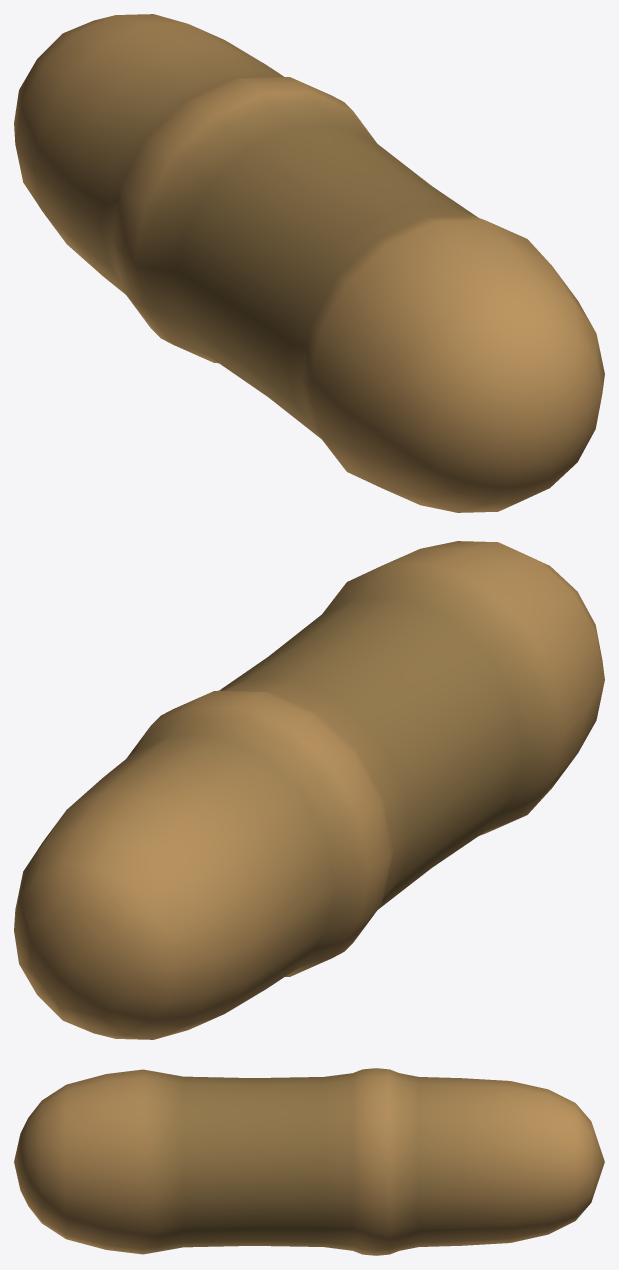
The model's file is microscopic-bacteria-dividing-bacterium_v2.glb.
3 views of the same model, one above another, from view 1: azimuth 30°, elevation 25°; view 2: azimuth 150°, elevation 25°; view 3: azimuth 270°, elevation 25° (orthographic). The views are drawn at different scales.
Parts seen in each view (by area): view 1: Dividing Bacterium_v2; view 2: Dividing Bacterium_v2; view 3: Dividing Bacterium_v2.
Boxes of the visible parts, left/top/right/bottom form: Dividing Bacterium_v2: left=14, top=14, right=604, bottom=512; Dividing Bacterium_v2: left=14, top=541, right=604, bottom=1039; Dividing Bacterium_v2: left=14, top=1068, right=604, bottom=1255.
Size of the model in its own units: 0.1594 by 0.1594 by 0.5.
